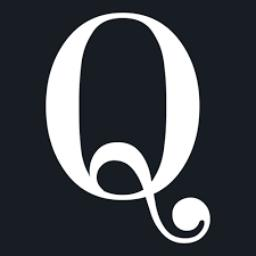q: (22, 4, 222, 256)
